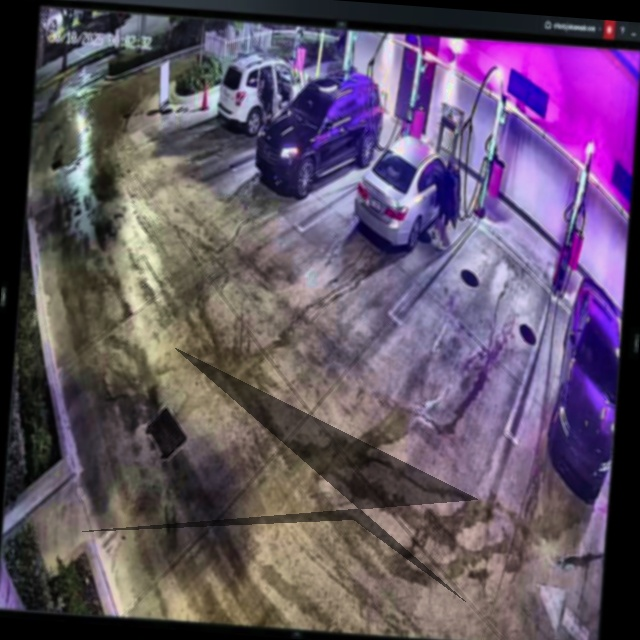Car: (253, 63, 386, 203), (352, 130, 465, 253)
